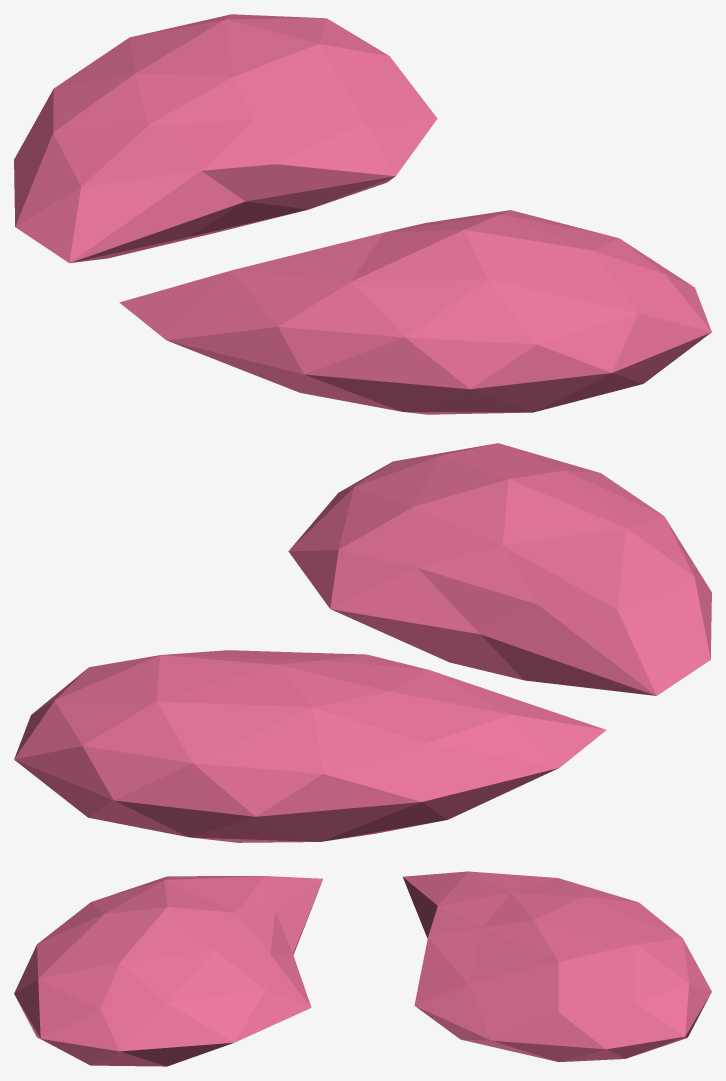
The model's file is lungs.fbx.
3 views of the same model, one above another, from view 1: azimuth 30°, elevation 25°; view 2: azimuth 150°, elevation 25°; view 3: azimuth 270°, elevation 25° (orthographic). The views are drawn at different scales.
Visible parts, largest first — view 1: Icosphere.001; view 2: Icosphere.001; view 3: Icosphere.001.
Boxes of the visible parts, bbox=[...] form: Icosphere.001: bbox=[14, 14, 711, 414]; Icosphere.001: bbox=[14, 443, 711, 842]; Icosphere.001: bbox=[14, 871, 711, 1066].
Bounding box in the file's own units: 150 × 52.91 × 254.
